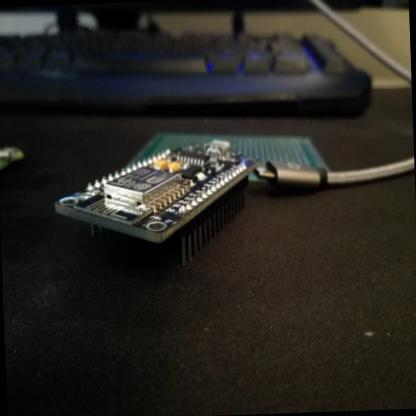ESP8266: (51, 135, 266, 273)
